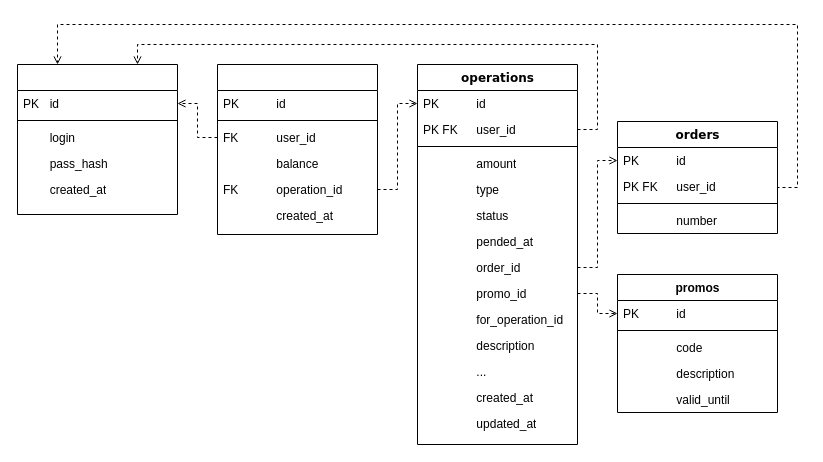
This 823x462 diagram has some shape labels left out. The box of each missing label's shape, as (x1, y1, x2, y2) in pixels:
transactions: (216, 64, 378, 234)
users: (16, 64, 178, 214)
